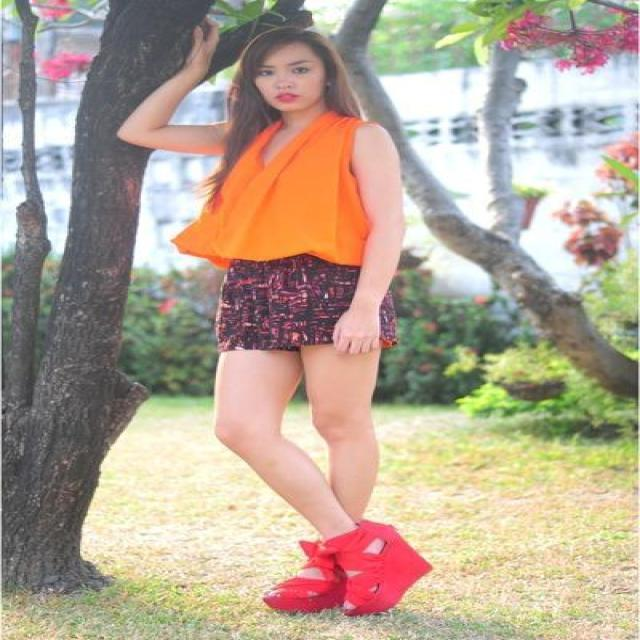shirt: (173, 112, 371, 268)
shoe: (262, 520, 430, 616)
shorts: (208, 253, 360, 370)
